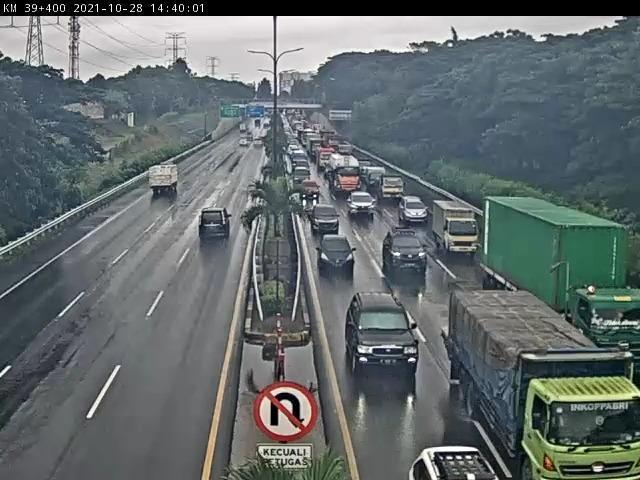car: (345, 291, 422, 371), (382, 227, 429, 273), (318, 235, 356, 269), (310, 204, 342, 232), (398, 194, 429, 222), (374, 171, 404, 197), (197, 209, 218, 239), (347, 192, 373, 215), (299, 179, 321, 199)
truck: (449, 288, 640, 480), (482, 198, 640, 365), (432, 201, 479, 254), (328, 154, 363, 193), (147, 163, 180, 195)
